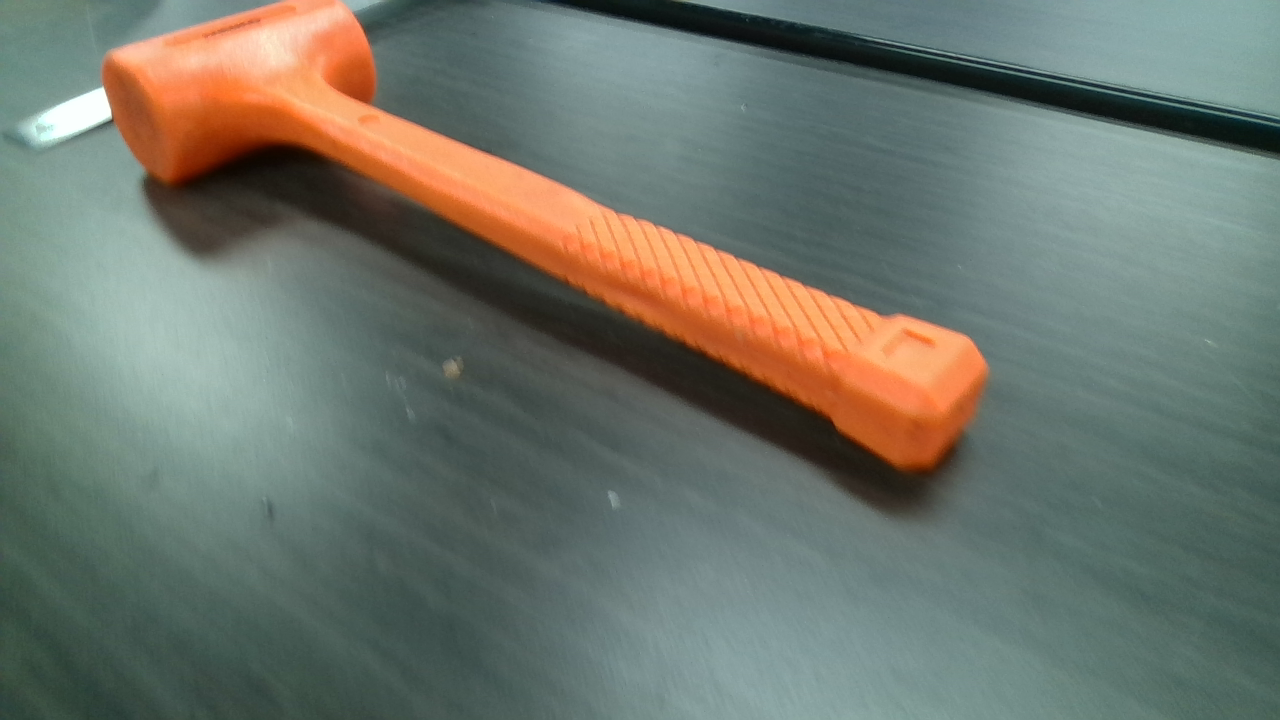Orange Hammer: (110, 1, 982, 477)
